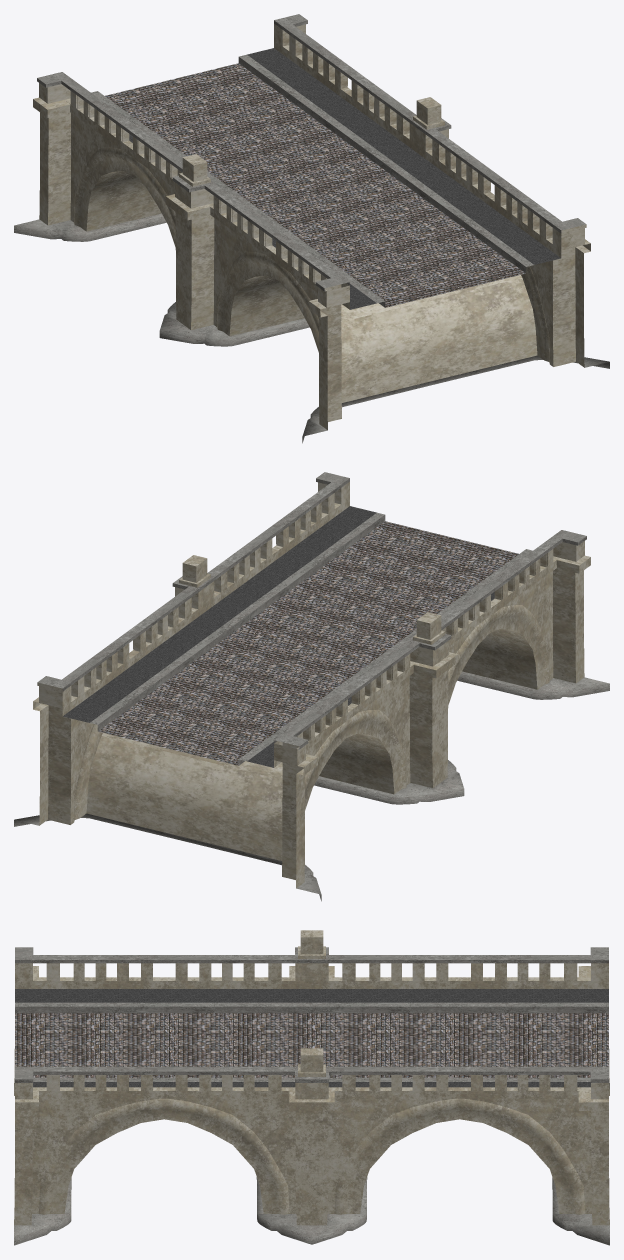
The model's file is Bridge.FBX.
3 renders of one model, top to bottom at view 1: azimuth 30°, elevation 25°; view 2: azimuth 150°, elevation 25°; view 3: azimuth 270°, elevation 25°, orthographic. The views are drawn at different scales.
Visible parts, largest first — view 1: Box002, Road, Sidewalk, foothold, floating, houvast, houvast001; view 2: Box002, Road, Sidewalk, foothold, floating, houvast, houvast001; view 3: Box002, Road, Sidewalk, foothold, houvast, houvast001, floating.
Boxes of the visible parts, box(x1,y1,x2,y2) form: Box002: box(33, 24, 590, 430); Road: box(105, 63, 525, 307); Sidewalk: box(129, 48, 560, 309); foothold: box(91, 54, 533, 307); floating: box(14, 213, 609, 443); houvast: box(274, 14, 586, 233); houvast001: box(37, 72, 349, 291); Box002: box(33, 482, 590, 888); Road: box(98, 521, 518, 765); Sidewalk: box(63, 506, 494, 767); foothold: box(90, 512, 532, 765); floating: box(14, 671, 609, 901); houvast: box(37, 472, 349, 691); houvast001: box(274, 530, 586, 749); Box002: box(14, 930, 609, 1225); Road: box(15, 1013, 608, 1077); Sidewalk: box(15, 989, 608, 1087); foothold: box(15, 1002, 608, 1081); houvast: box(15, 1066, 608, 1082); houvast001: box(15, 947, 608, 963); floating: box(14, 1083, 609, 1245).
Size of the model in its own units: 142 by 74.71 by 230.
